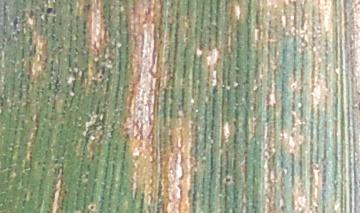tarspot: (223, 174, 232, 184), (45, 5, 53, 16), (89, 204, 95, 211)
